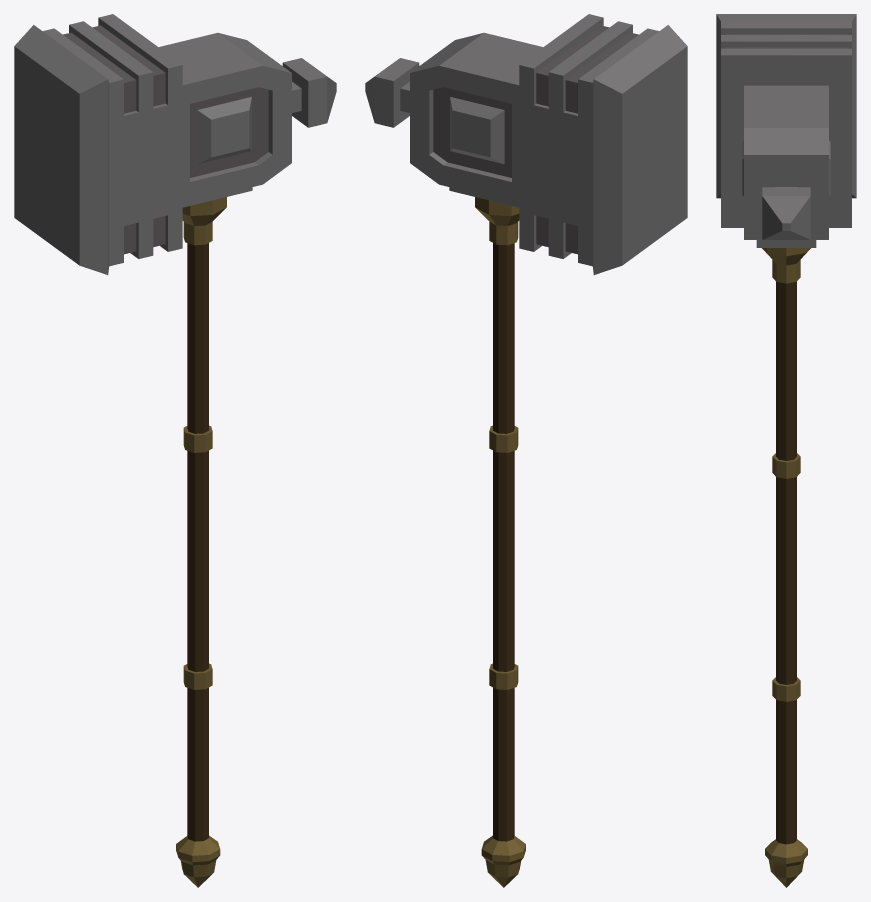
Rendered from gravity-hammer.glb.
3 views of the same model, side by side, from view 1: azimuth 30°, elevation 25°; view 2: azimuth 150°, elevation 25°; view 3: azimuth 270°, elevation 25° (orthographic). The views are drawn at different scales.
Parts seen in each view (by area): view 1: 2H - Gravity Hammer - Proxy Games; view 2: 2H - Gravity Hammer - Proxy Games; view 3: 2H - Gravity Hammer - Proxy Games.
Boxes of the visible parts, left/top/right/bottom form: 2H - Gravity Hammer - Proxy Games: left=14, top=14, right=336, bottom=887; 2H - Gravity Hammer - Proxy Games: left=365, top=14, right=687, bottom=887; 2H - Gravity Hammer - Proxy Games: left=716, top=14, right=856, bottom=887.
Bounding box in the file's own units: 0.5481 × 1.58 × 0.246.
